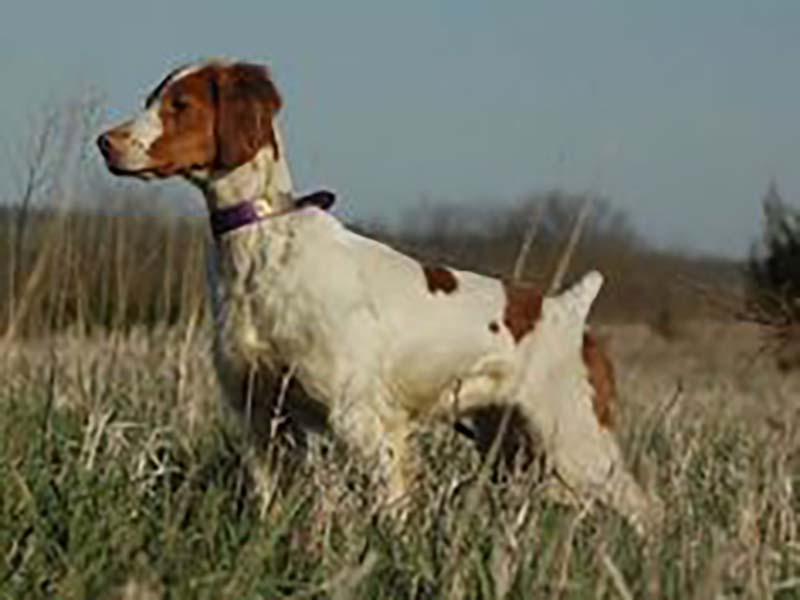cane da caccia: (94, 51, 659, 539)
